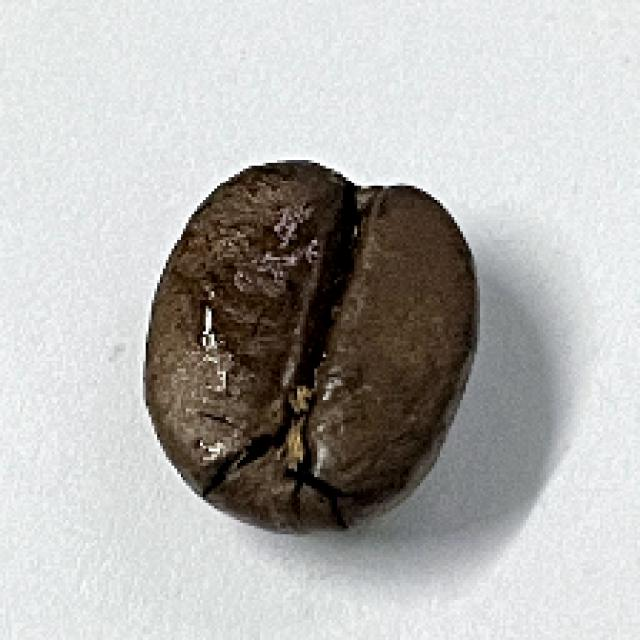bean: (135, 151, 484, 538)
